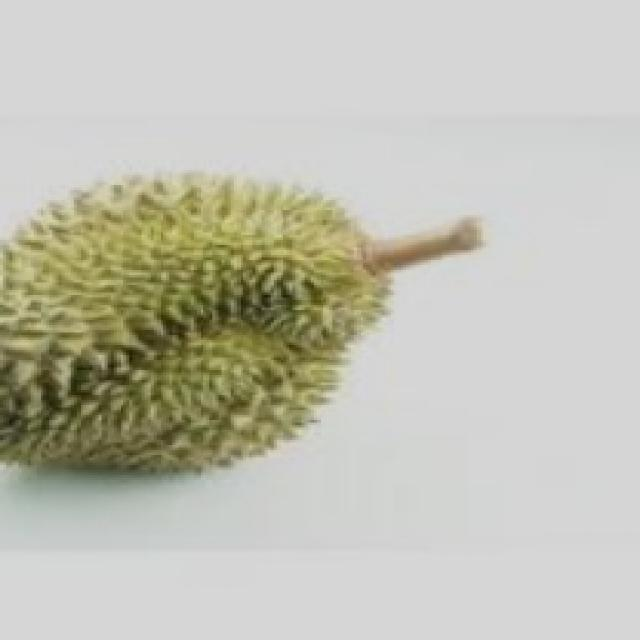fruit: (0, 129, 412, 532)
